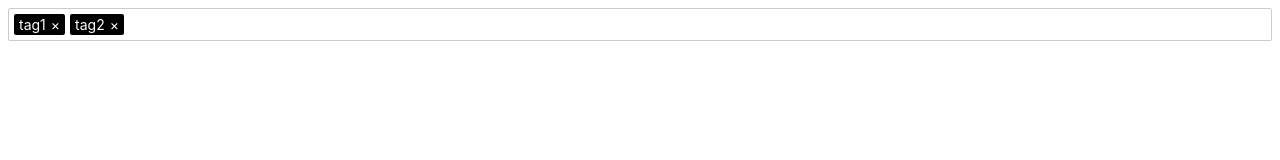
Test case: Tags › Remove tag › clicking remove button removes tag
The width and height of the screenshot is (1280, 160).
Click the 2nd button "×" at point(114, 24), box [110, 16, 119, 33]
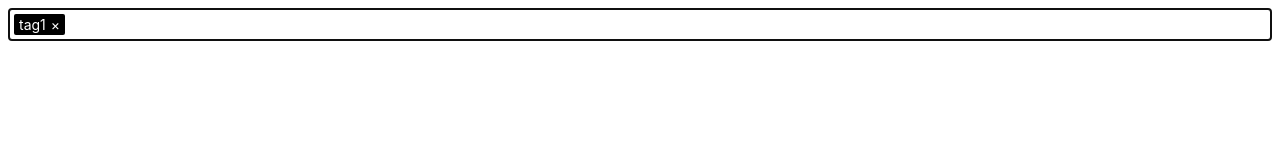
Expected: the button "tag1 ×" is shown, [14, 14, 65, 35]
Expected: the button "tag2" is gone
